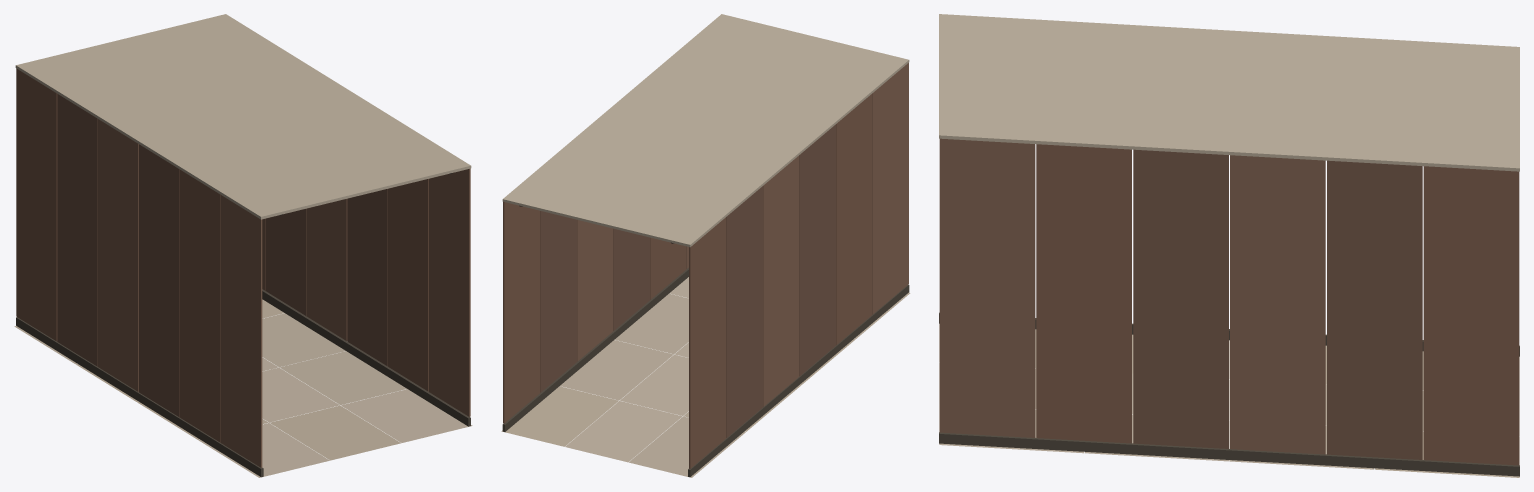
The model's file is bay.glb.
3 views of the same model, side by side, from view 1: azimuth 30°, elevation 25°; view 2: azimuth 150°, elevation 25°; view 3: azimuth 270°, elevation 25° (orthographic). The views are drawn at different scales.
Parts seen in each view (by area): view 1: Surface; view 2: Surface; view 3: Surface.
Boxes of the visible parts, bbox=[...] form: Surface: bbox=[14, 14, 472, 477]; Surface: bbox=[501, 14, 910, 477]; Surface: bbox=[939, 14, 1519, 477].
Bounding box in the file's own units: 2.6 × 3.35 × 5.16.
